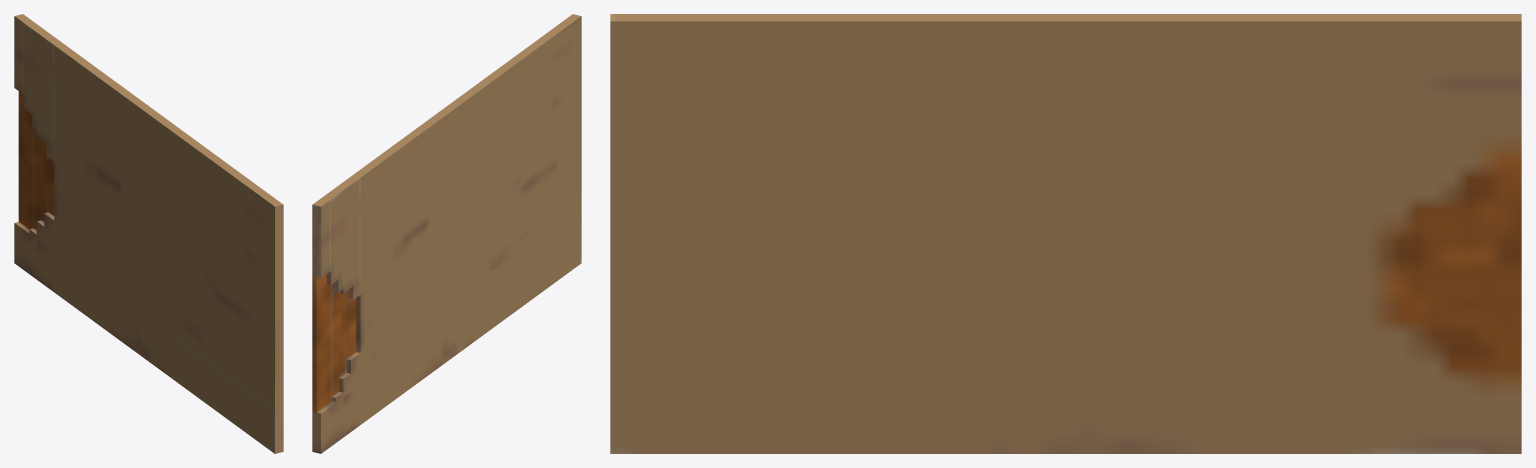
File: WallRightSideModeratelyDamaged_B_00.obj
3 views of the same model, side by side, from view 1: azimuth 30°, elevation 25°; view 2: azimuth 150°, elevation 25°; view 3: azimuth 270°, elevation 25° (orthographic). The views are drawn at different scales.
Parts seen in each view (by area): view 1: WallRightSideModeratelyDamaged_B_00; view 2: WallRightSideModeratelyDamaged_B_00; view 3: WallRightSideModeratelyDamaged_B_00.
Part boxes in pixels (bbox=[...]): WallRightSideModeratelyDamaged_B_00: bbox=[14, 14, 283, 453]; WallRightSideModeratelyDamaged_B_00: bbox=[312, 14, 581, 453]; WallRightSideModeratelyDamaged_B_00: bbox=[610, 14, 1521, 453].
Bounding box in the file's own units: 0.1 × 2.75 × 5.25.
